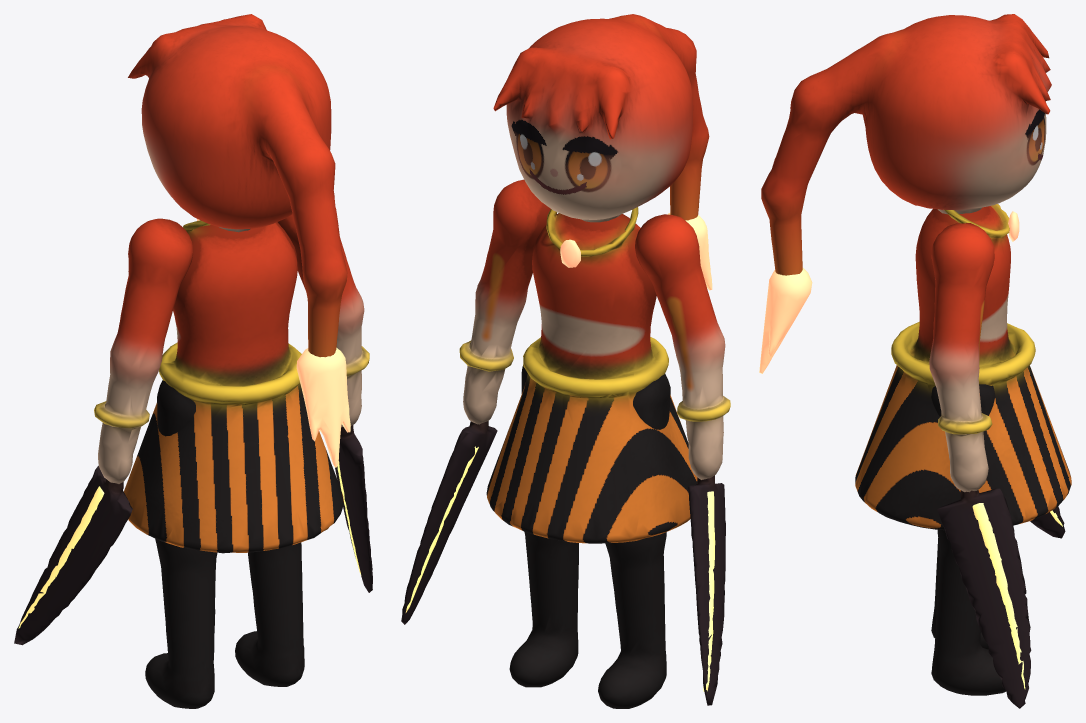
Rendered from Embra.glb.
The picture shows the model from 3 angles, left to right: view 1: azimuth 30°, elevation 25°; view 2: azimuth 150°, elevation 25°; view 3: azimuth 270°, elevation 25°; orthographic projection. The views are drawn at different scales.
Visible parts, largest first — view 1: Body, Head, ArmL, LegL, LegR, Weapon, Head_Glow, ArmR, WeaponR, Weapon_Glow; view 2: Body, Head, ArmL, ArmR, LegL, LegR, Weapon, WeaponR, Weapon_Glow, Head_Glow, WeaponR_Glow; view 3: Head, Body, ArmR, WeaponR, LegR, Head_Glow, WeaponR_Glow, Weapon.
Boxes of the visible parts, <box> form: Body: <box>124,220,343,553</box>; Head: <box>128,14,347,357</box>; ArmL: <box>94,218,192,483</box>; LegL: <box>145,380,217,708</box>; LegR: <box>235,542,304,686</box>; Weapon: <box>14,466,132,645</box>; Head_Glow: <box>296,347,350,467</box>; ArmR: <box>278,208,369,426</box>; WeaponR: <box>335,425,372,592</box>; Weapon_Glow: <box>18,486,104,628</box>; Body: <box>486,207,697,543</box>; Head: <box>493,14,709,222</box>; ArmL: <box>635,214,730,479</box>; ArmR: <box>459,179,556,424</box>; LegL: <box>598,373,670,708</box>; LegR: <box>509,365,578,687</box>; Weapon: <box>688,475,725,705</box>; WeaponR: <box>401,421,497,624</box>; Weapon_Glow: <box>703,491,715,691</box>; Head_Glow: <box>667,213,712,290</box>; WeaponR_Glow: <box>405,446,478,612</box>; Head: <box>761,14,1051,275</box>; Body: <box>855,204,1071,530</box>; ArmR: <box>929,223,994,492</box>; WeaponR: <box>937,488,1031,708</box>; LegR: <box>931,384,1006,695</box>; Head_Glow: <box>759,268,812,373</box>; WeaponR_Glow: <box>972,503,1025,689</box>; Weapon: <box>1030,506,1065,538</box>.
Bounding box in the file's own units: 0.9848 × 1.86 × 0.8142.
7 materials, 1 textured.
